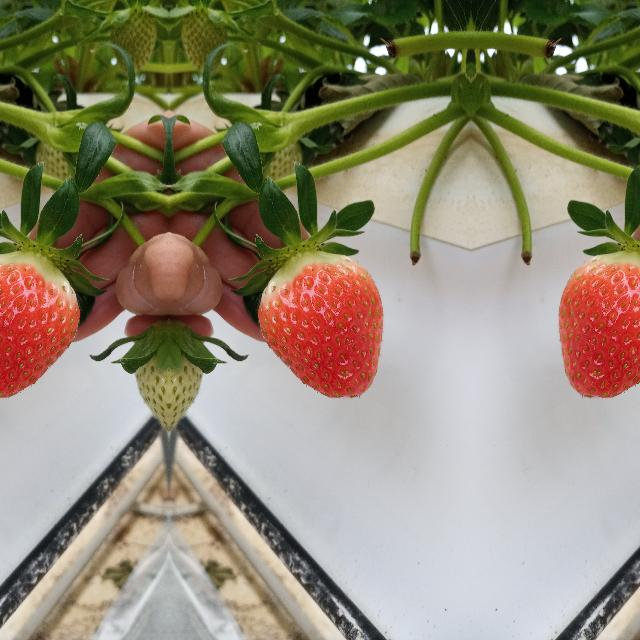Health_100: (256, 254, 384, 401), (557, 253, 640, 400), (0, 253, 79, 400)
